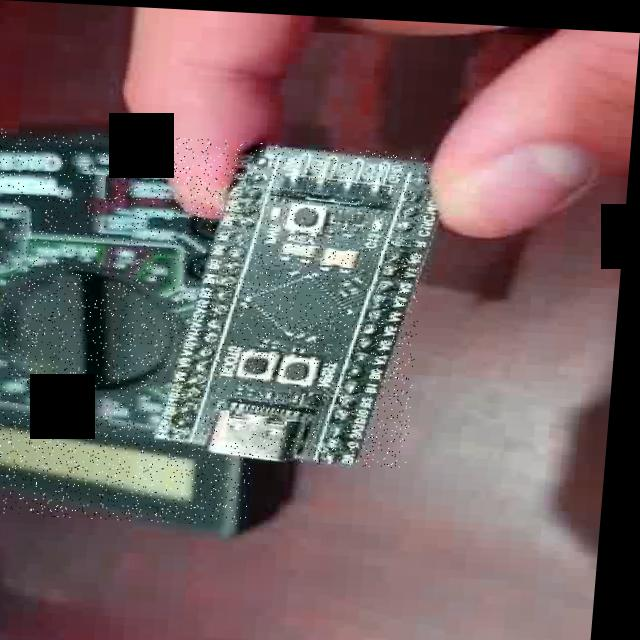multimeter: (0, 128, 279, 524)
stm32: (167, 138, 434, 464)
